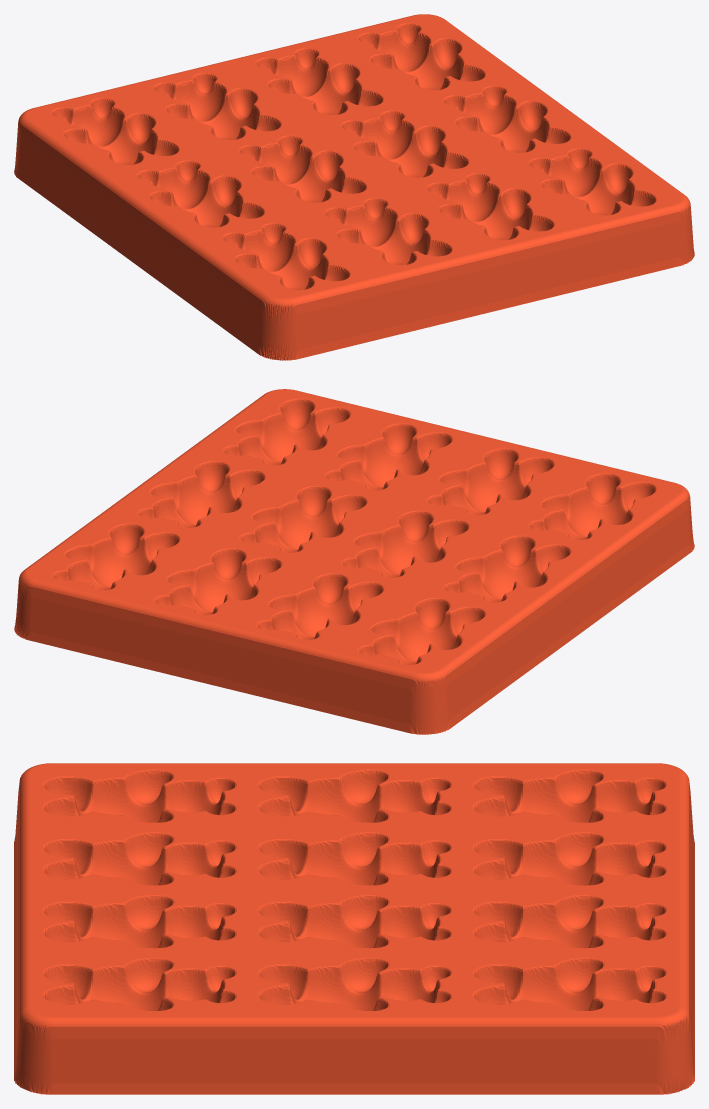
Rendered from mold.glb.
3 views of the same model, one above another, from view 1: azimuth 30°, elevation 25°; view 2: azimuth 150°, elevation 25°; view 3: azimuth 270°, elevation 25° (orthographic). The views are drawn at different scales.
Parts seen in each view (by area): view 1: geometry_0; view 2: geometry_0; view 3: geometry_0.
Part boxes in pixels (<box>): geometry_0: <box>14,14,694,360</box>; geometry_0: <box>14,389,694,734</box>; geometry_0: <box>14,763,694,1094</box>.
Bounding box in the file's own units: 0.1476 × 0.0185 × 0.1598.
